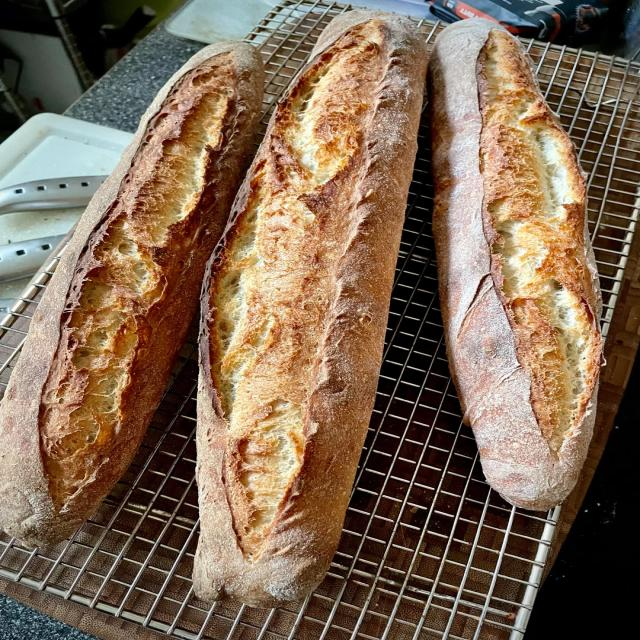Baguette: (189, 8, 599, 619), (0, 44, 265, 545), (427, 17, 604, 512)
